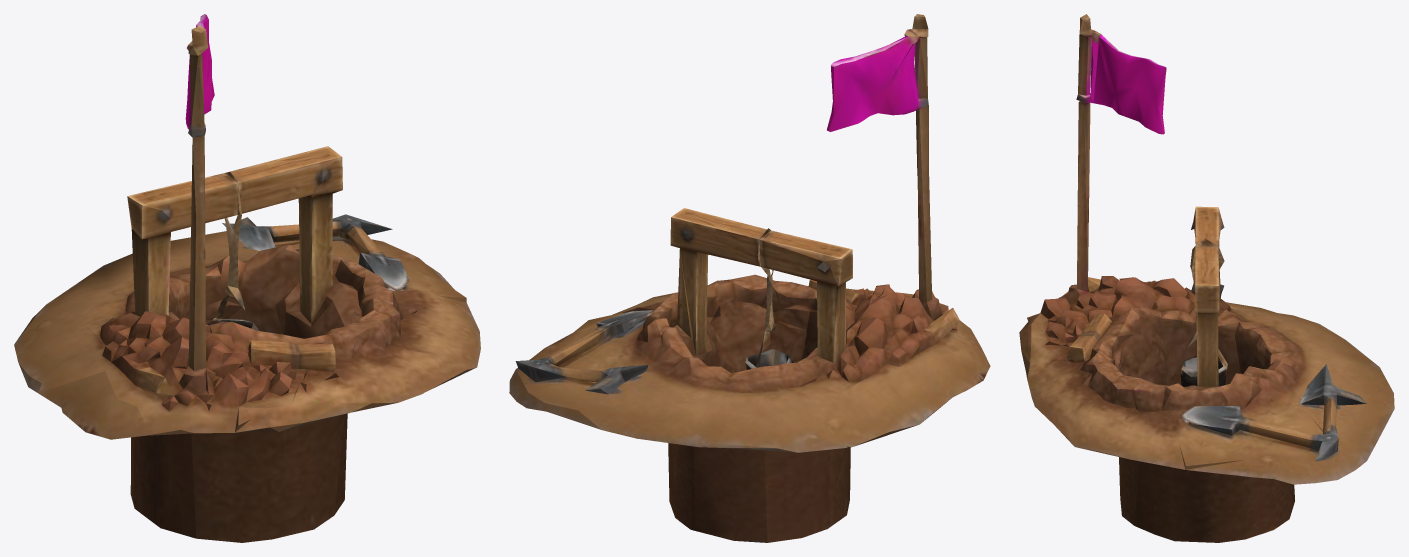
Rendered from clay_mine.lod1.glb.
3 views of the same model, side by side, from view 1: azimuth 30°, elevation 25°; view 2: azimuth 150°, elevation 25°; view 3: azimuth 270°, elevation 25° (orthographic). The views are drawn at different scales.
Visible parts, largest first — view 1: clay_mine.lod1_uv; view 2: clay_mine.lod1_uv; view 3: clay_mine.lod1_uv.
Part boxes in pixels (box(x1,y1,x2,y2)): clay_mine.lod1_uv: box(14, 14, 480, 542); clay_mine.lod1_uv: box(509, 14, 990, 542); clay_mine.lod1_uv: box(1019, 14, 1394, 542).
Bounding box in the file's own units: 1.6 × 1.9 × 1.45.
1 material, 1 textured.
